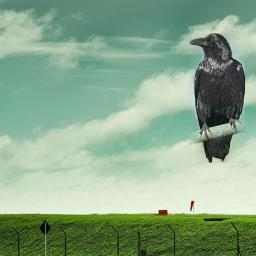Crow: (189, 33, 245, 163)
